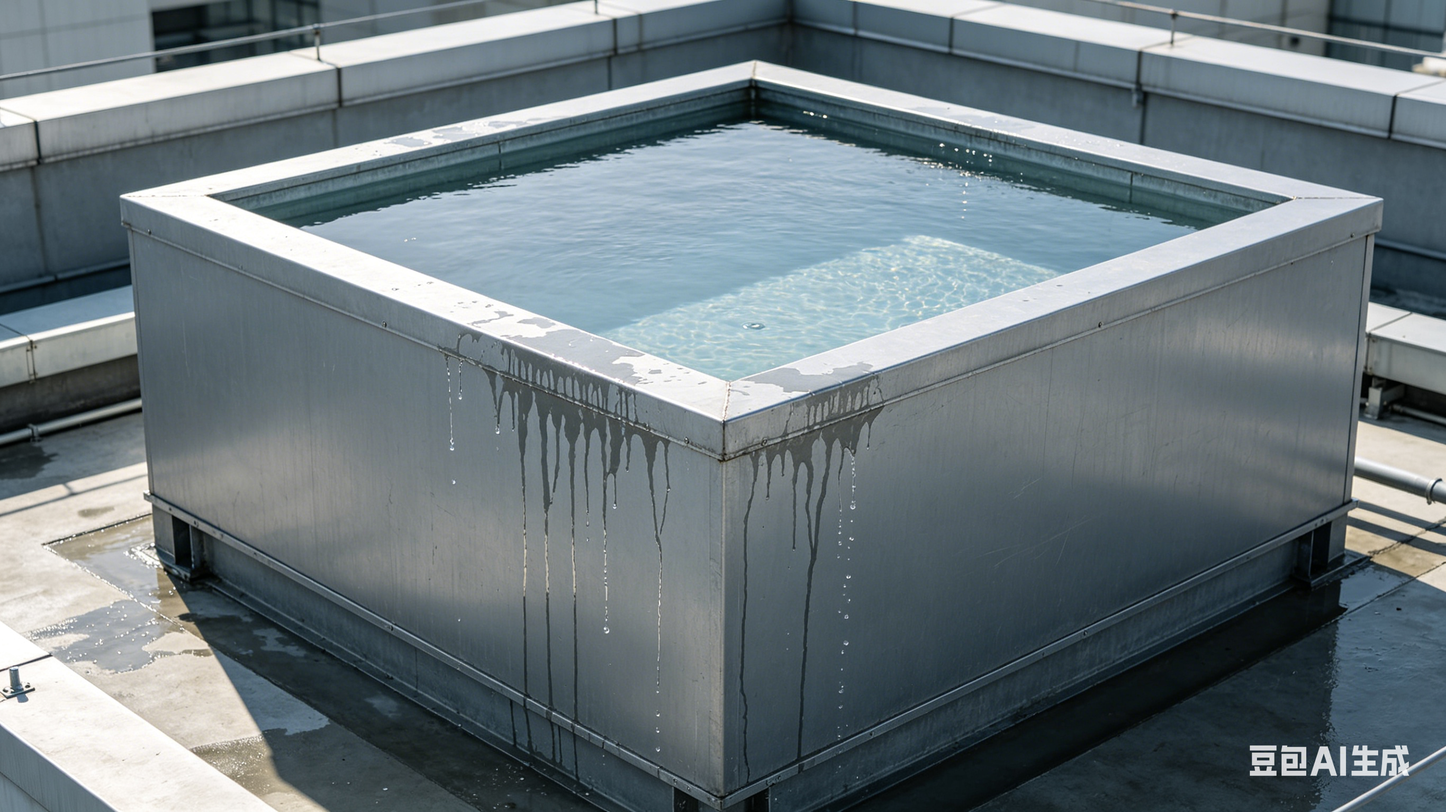Leakage: (453, 374, 674, 782), (815, 410, 864, 788), (730, 442, 760, 791)
